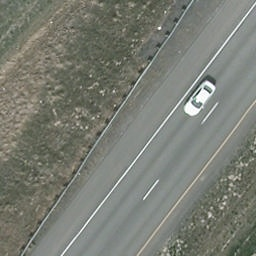car: (180, 78, 216, 117)
